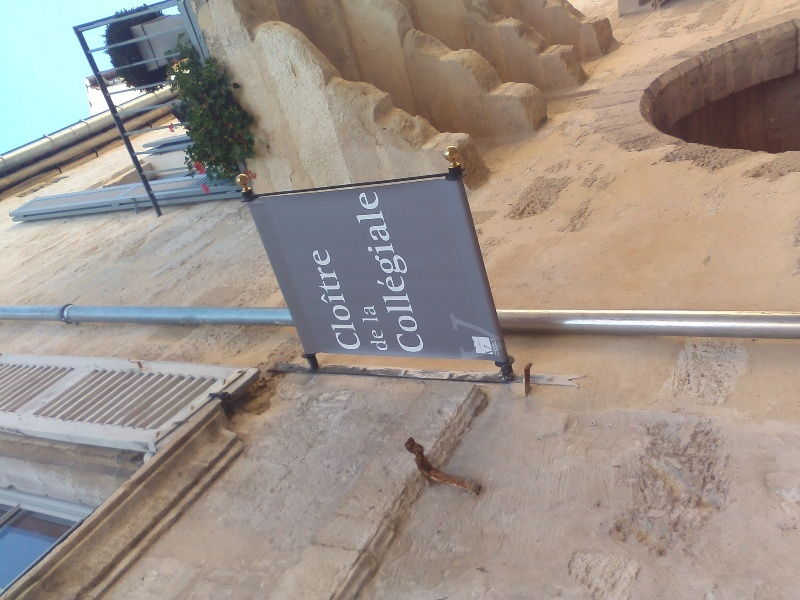text: (385, 187, 400, 354), (401, 187, 416, 354), (417, 187, 432, 354), (337, 247, 352, 354), (353, 247, 364, 354), (327, 247, 336, 354), (449, 312, 464, 363), (465, 312, 480, 363), (481, 312, 496, 363), (497, 312, 508, 363), (369, 329, 384, 352), (369, 304, 380, 324), (358, 304, 368, 324), (433, 187, 434, 354), (490, 338, 496, 358), (484, 344, 496, 354), (385, 329, 390, 352), (497, 338, 501, 358), (447, 312, 448, 363), (367, 329, 368, 352)
